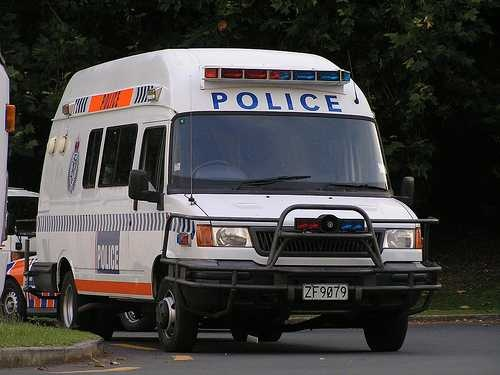Police Van: (27, 47, 447, 365)
